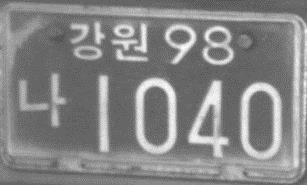0: (134, 75, 178, 154), (239, 81, 283, 160)
1: (87, 75, 122, 152)
4: (187, 79, 230, 158)
8: (201, 25, 234, 65)
9: (164, 23, 197, 65)
강원_O: (68, 19, 148, 62)
나: (17, 73, 66, 127)
